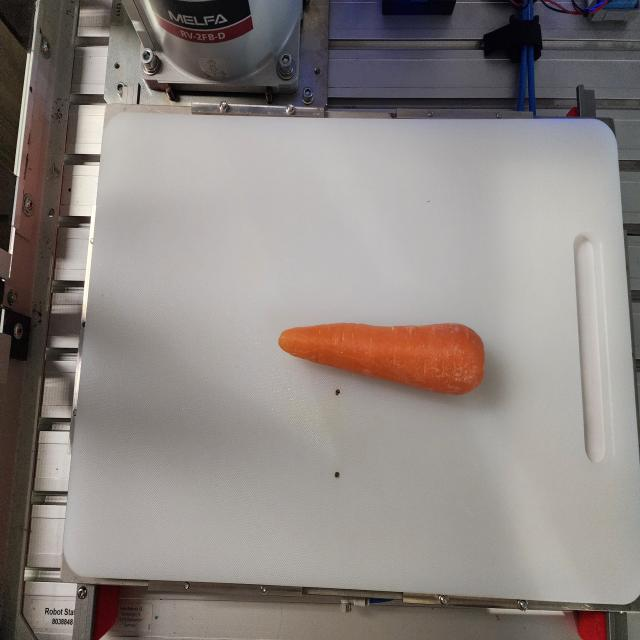carrot: (278, 321, 485, 396)
